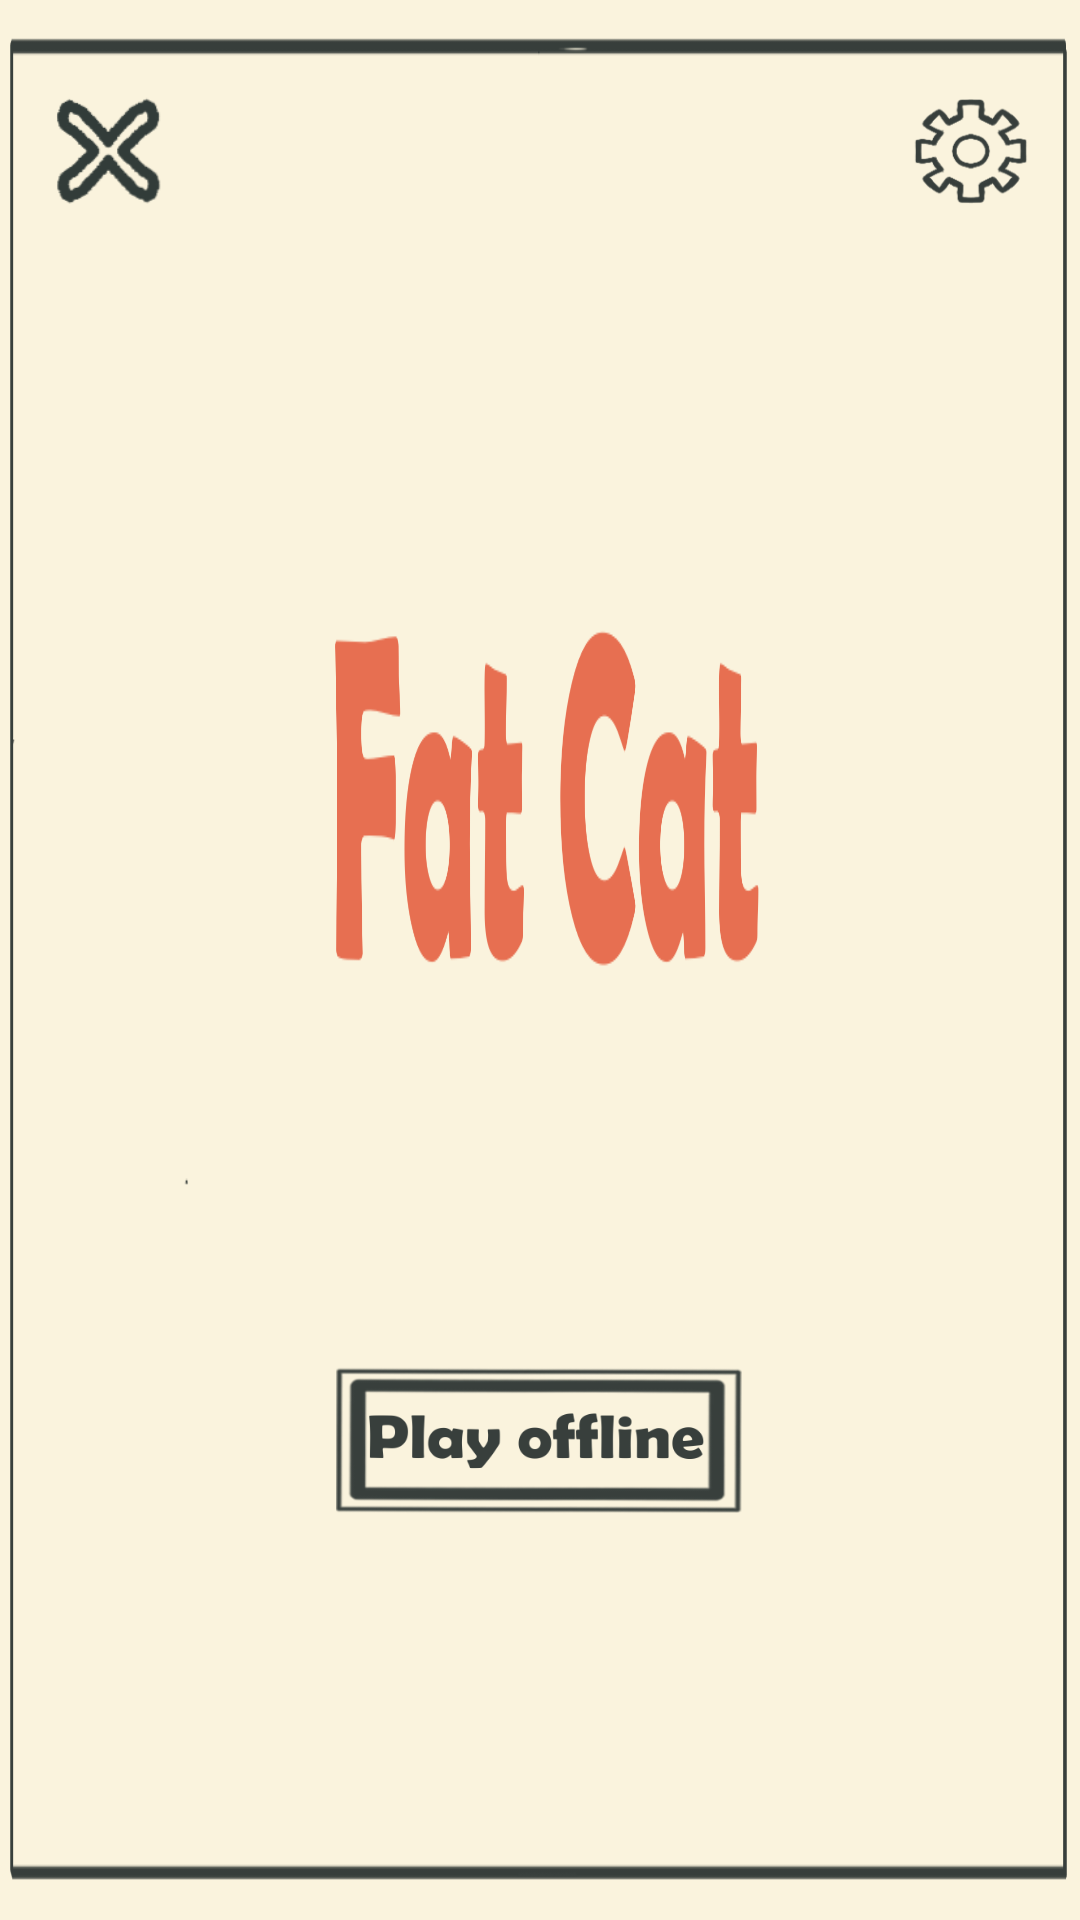

Screen size 1080px x 1920px. Icon name, then its center in pixels as [x,y]:
exit: [108,151]
settings sign: [971,151]
